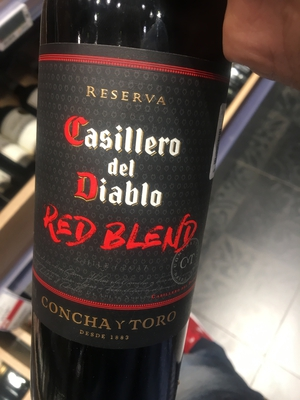casillero del diablo red blend: (18, 17, 230, 396)
